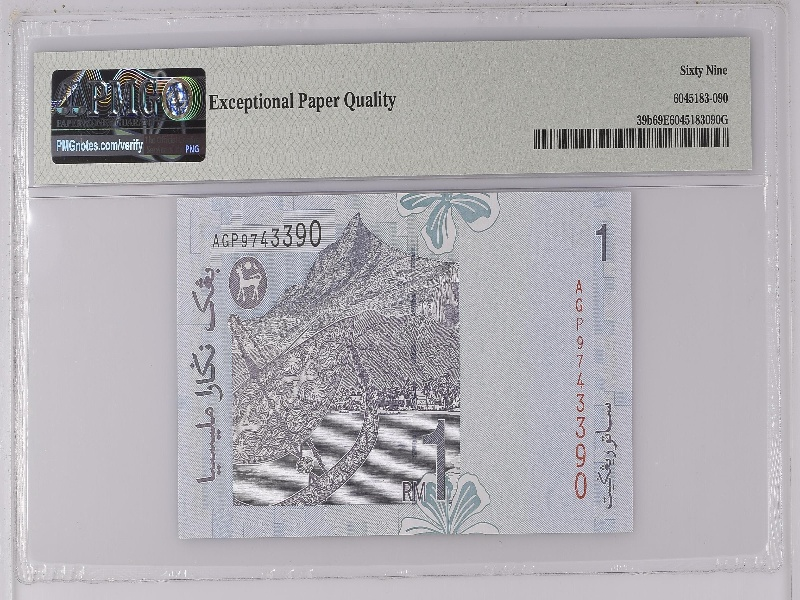papernote: (173, 195, 638, 537)
